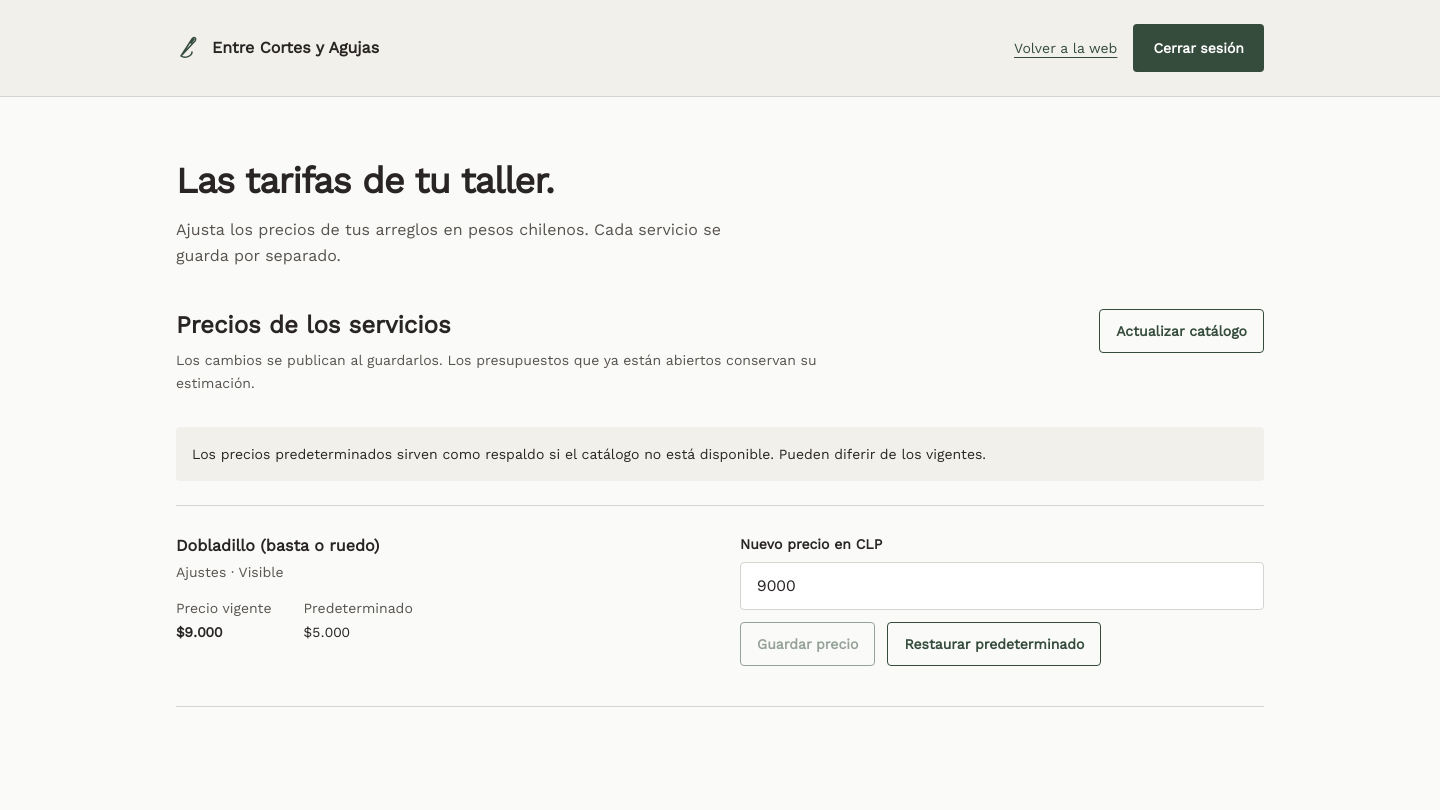
it: price administration › validates prices before saving and keeps edits after network failure
Replace the text in the field labelled "Nuevo precio en CLP" with "1.5". click: x=1002, y=586
box: [740,562,1264,610]
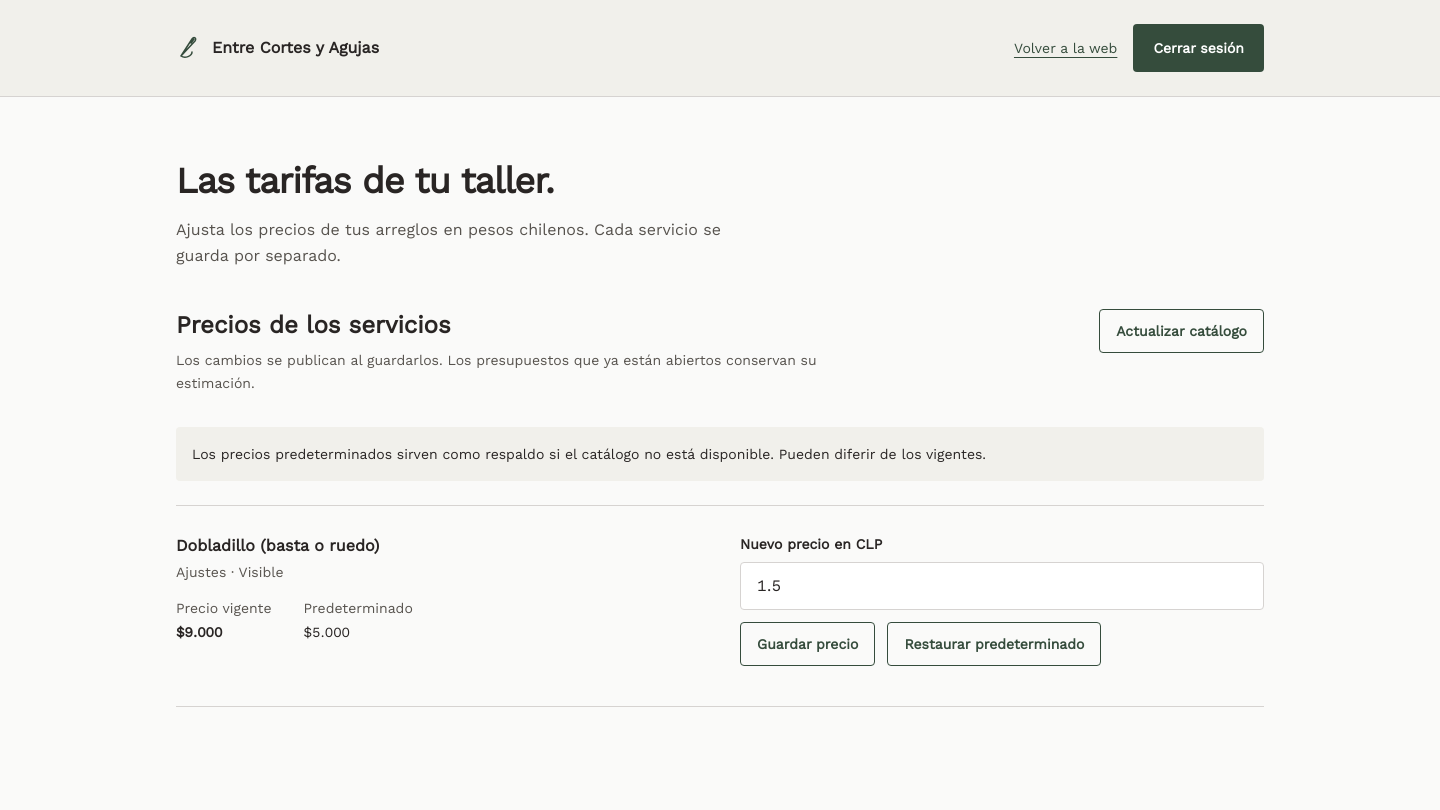
Click the button "Guardar precio". click: x=808, y=644
box: [740,622,875,666]
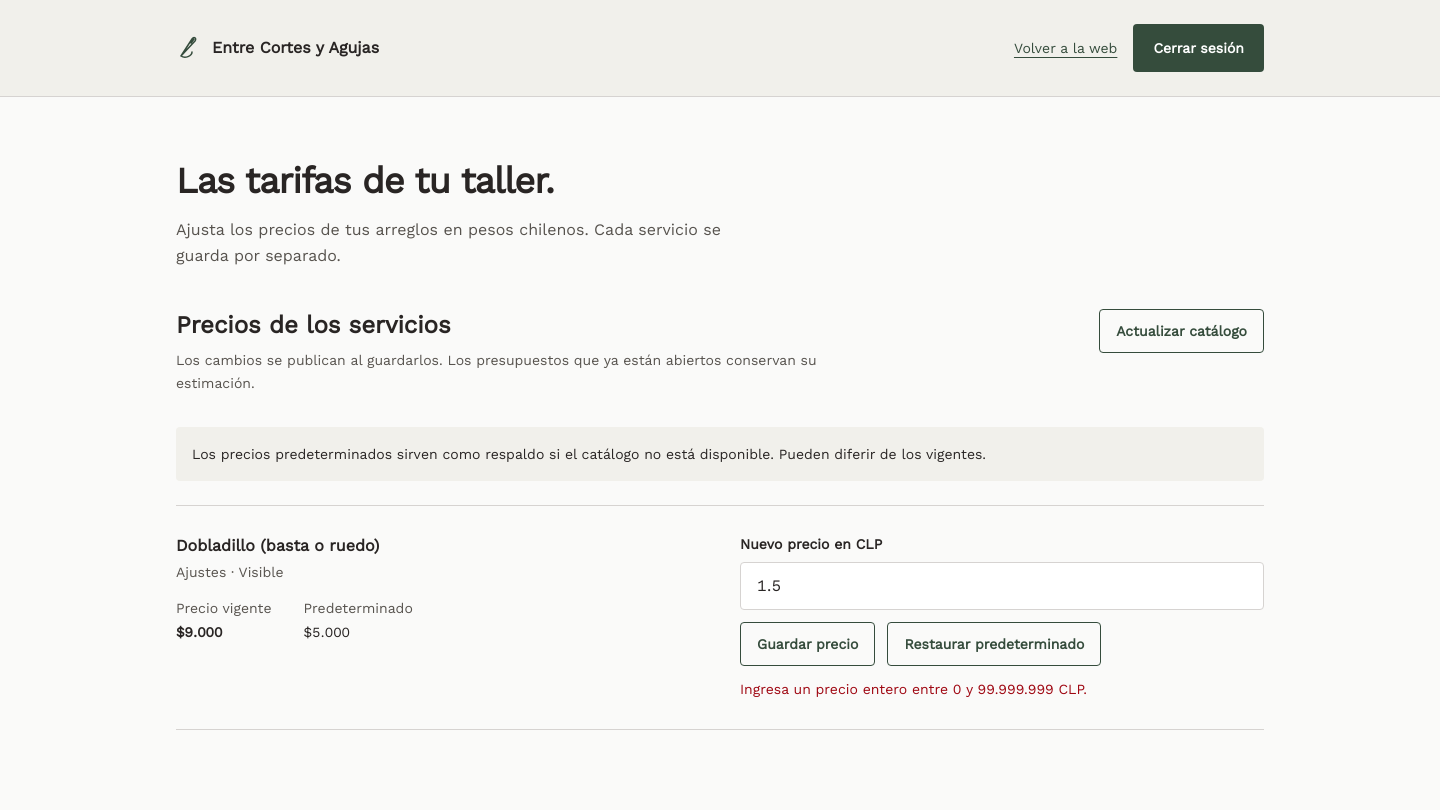
Result: the message shows "precio entero" at [740,681,1087,697]
Replace the text in the field labelled "Nuevo precio en CLP" with "10000". click: x=1002, y=586
box: [740,562,1264,610]
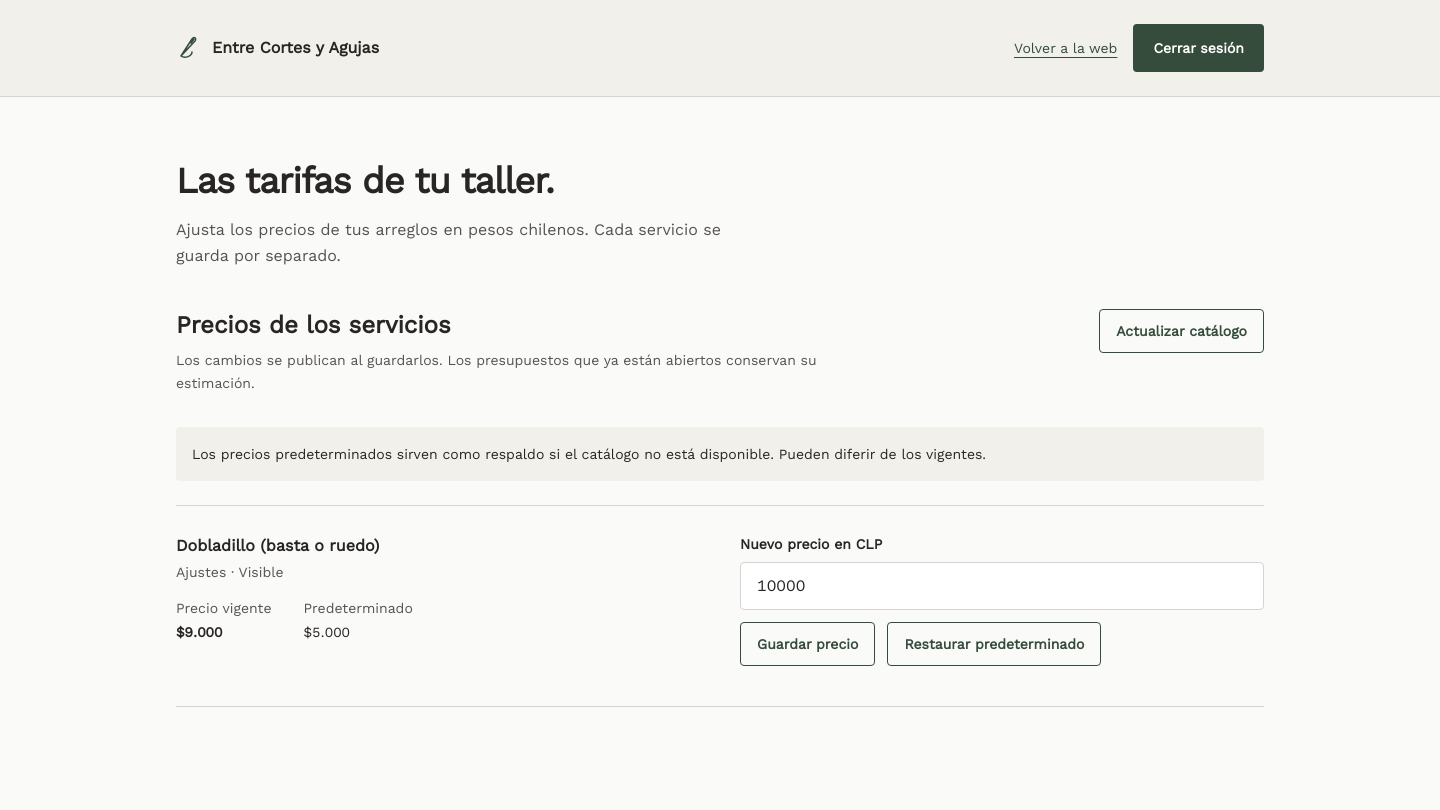
Click the button "Guardar precio". click: x=808, y=644
box: [740,622,875,666]
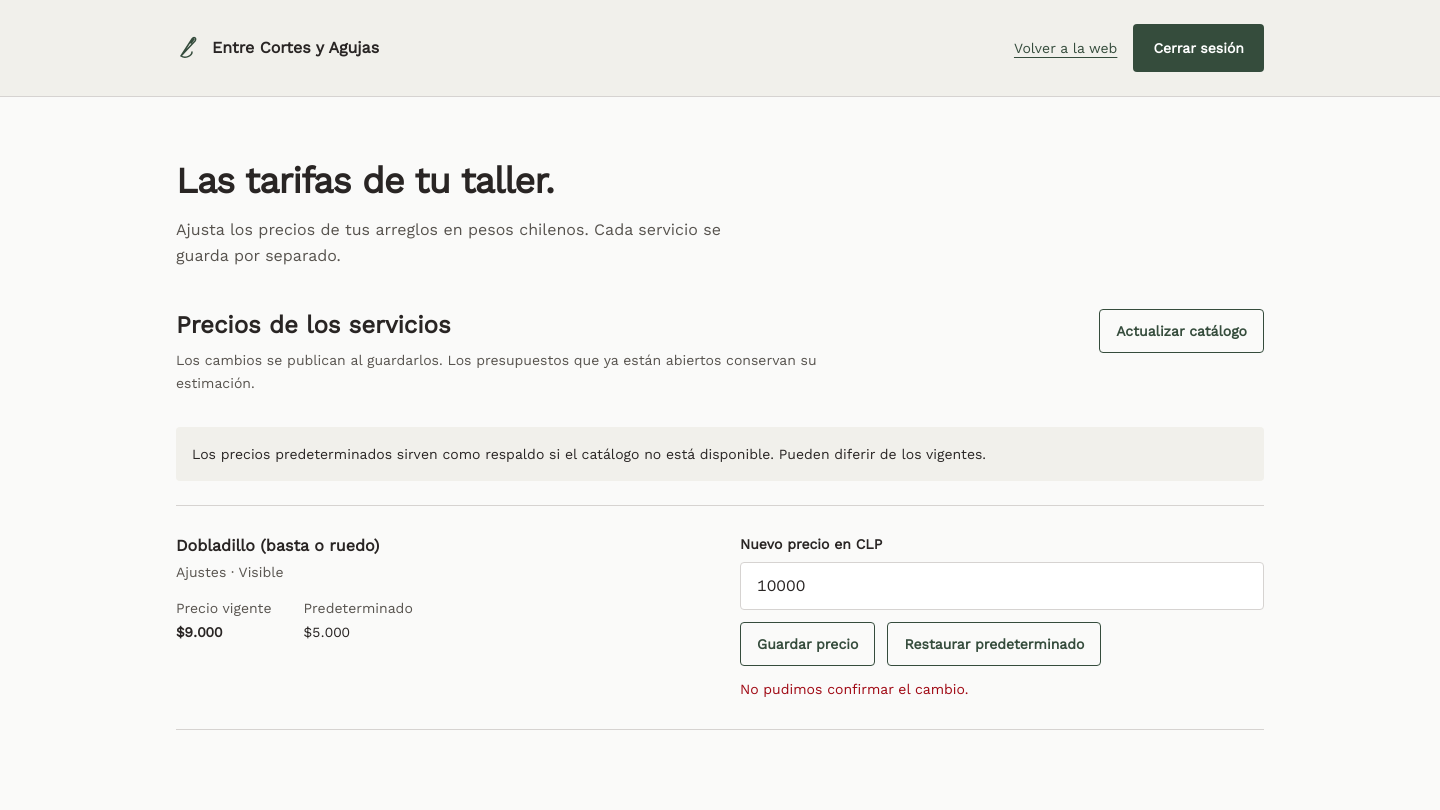
Result: the message shows "No pudimos" at [740,681,968,697]
